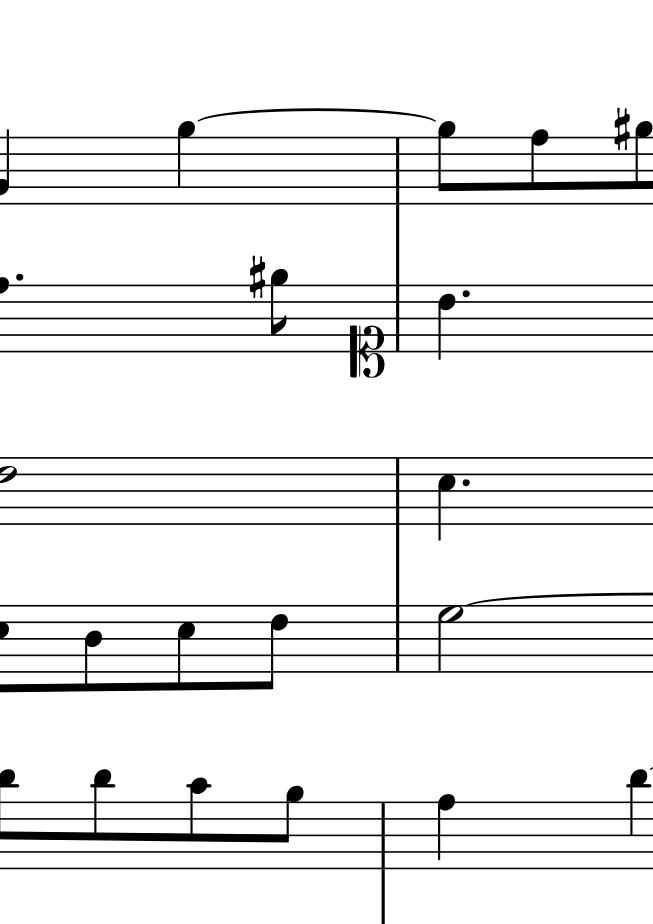2_7: (436, 603, 468, 672)
4_11: (626, 768, 653, 873)
4_5: (435, 454, 457, 545)
4_6: (435, 281, 464, 363)
4_8: (434, 791, 458, 872)
4_9: (175, 121, 197, 208)
8_10: (186, 777, 209, 876)
8_11: (88, 770, 115, 873)
8_5: (171, 600, 201, 695)
8_8: (528, 127, 552, 210)
8_9: (273, 784, 304, 870), (435, 120, 460, 207), (631, 115, 653, 209), (268, 268, 288, 359)
Sharp: (259, 601, 292, 693), (80, 600, 105, 693), (609, 106, 634, 151), (244, 254, 269, 298)
Single_barline: (387, 457, 410, 525), (388, 136, 411, 203), (388, 284, 410, 350), (388, 604, 409, 672), (373, 802, 394, 870)
Slur: (195, 108, 434, 122)
Soprano_Cclef: (346, 283, 388, 380)
dot: (459, 283, 474, 304), (458, 472, 473, 493), (11, 271, 29, 288)
